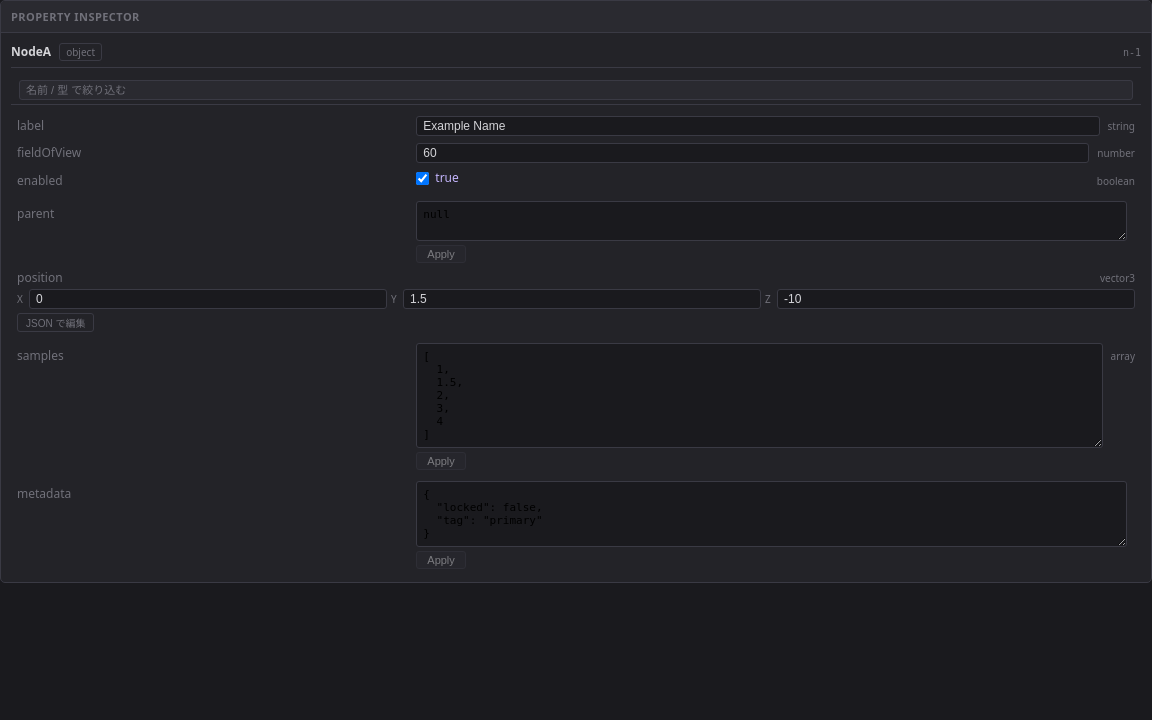
Test case: PropertyInspectorPanel — write feedback › shows an error notice when the write throws
Replace the text in the field showing "Example Name" with "X" at point(758, 126), box [416,116,1100,136]
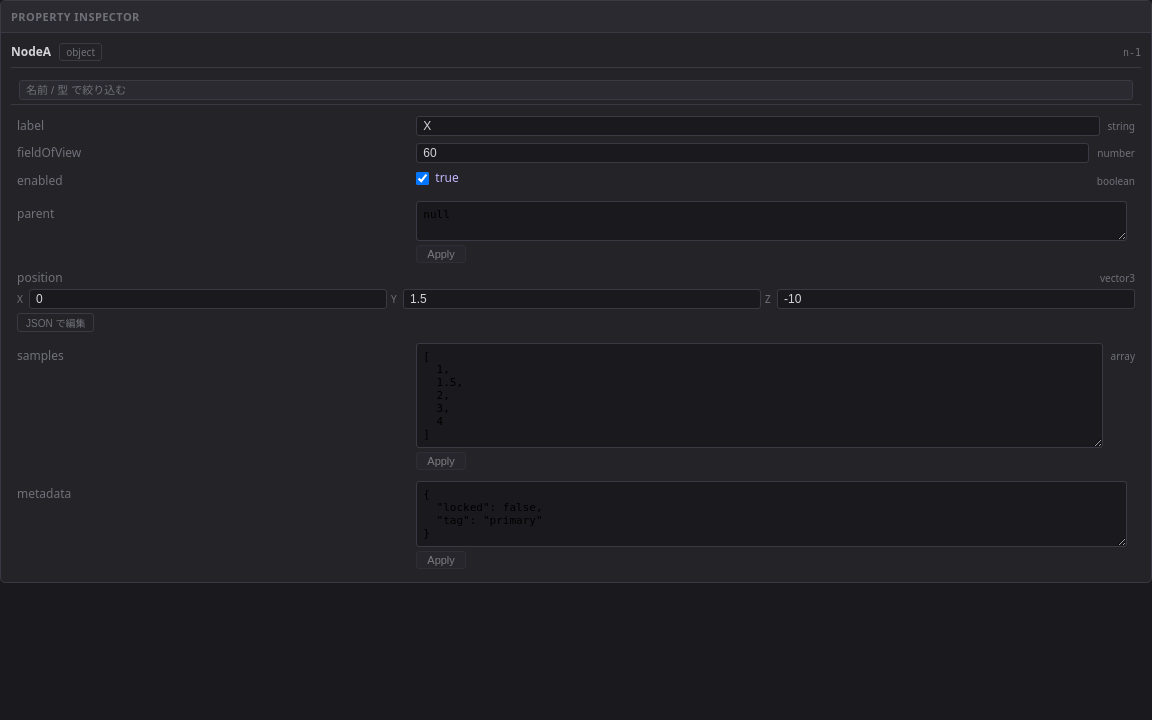
Leave the field showing "Example Name", box [416,116,1100,136]
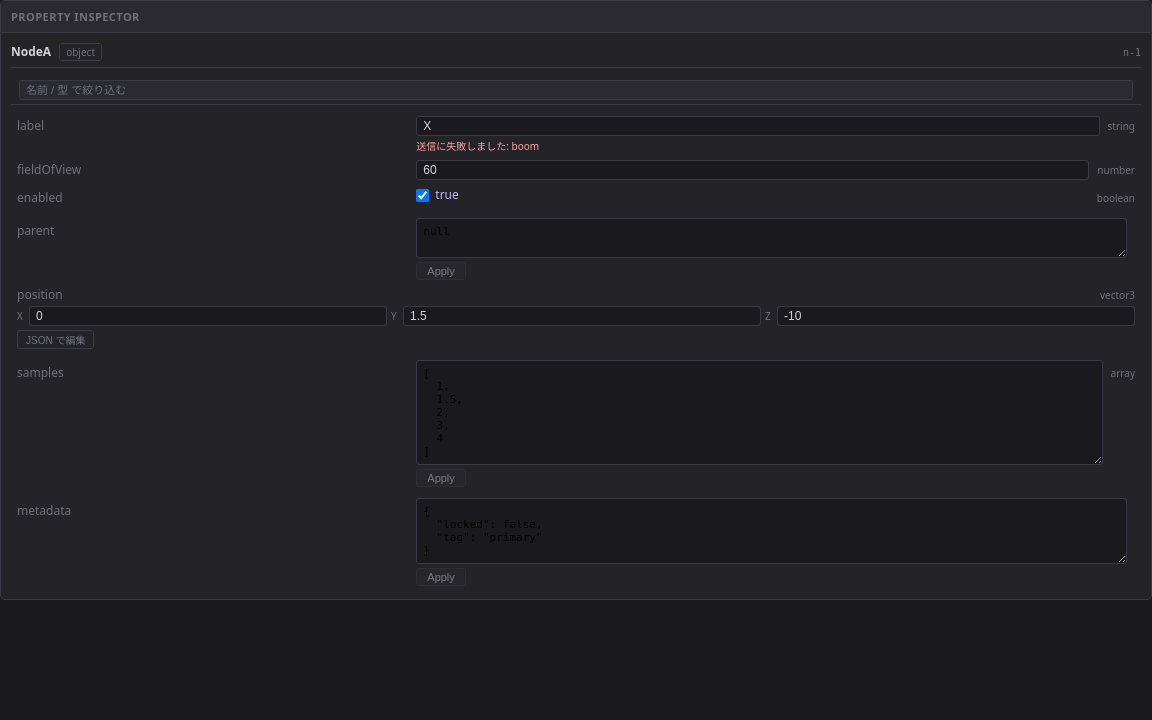
Expected: the text "送信に失敗しました: boom" is shown, [416,139,539,153]
